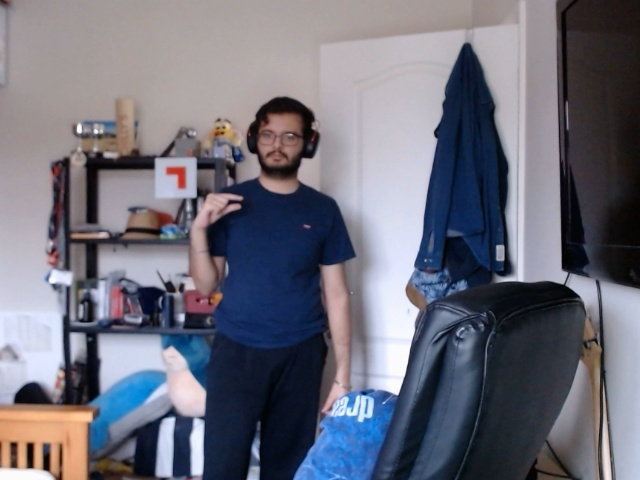Small: (185, 187, 248, 235)
